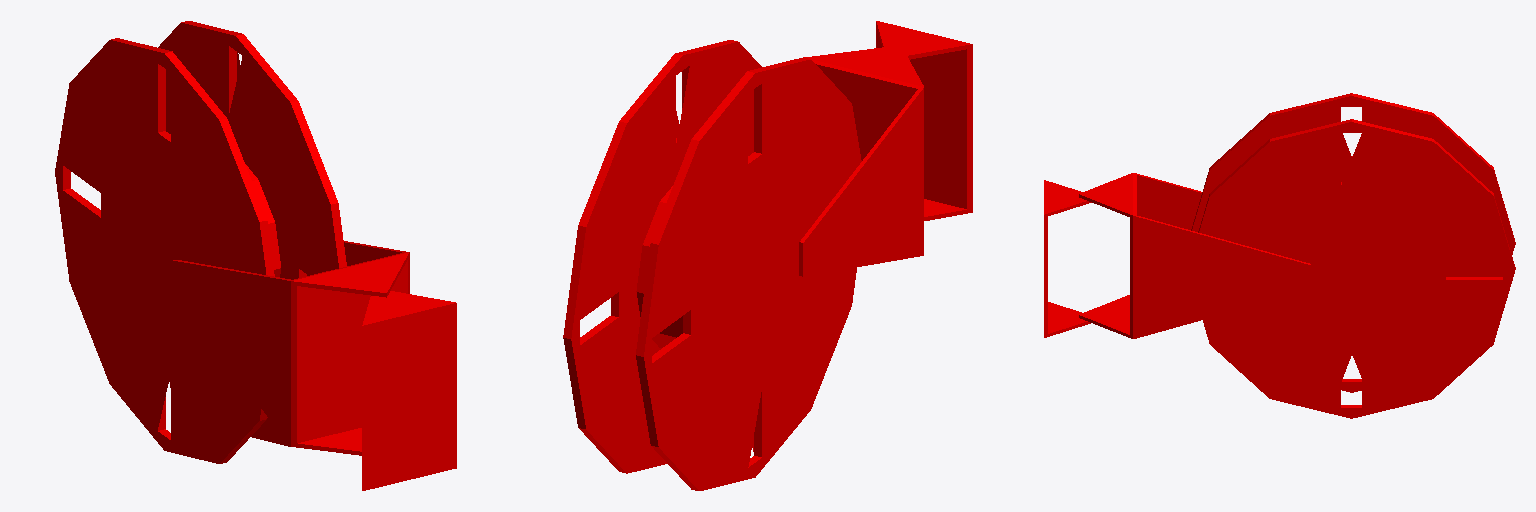
The robot description file, URDF, robot "drcbox-hose-reel-0-robot":
<?xml version="1.0"?>
<robot name="drcbox-hose-reel-0-robot"
       xmlns:xi="http://www.w3.org/2001/XInclude"
       xmlns:gazebo="http://playerstage.sourceforge.net/gazebo/xmlschema/#gz"
       xmlns:model="http://playerstage.sourceforge.net/gazebo/xmlschema/#model"
       xmlns:sensor="http://playerstage.sourceforge.net/gazebo/xmlschema/#sensor"
       xmlns:body="http://playerstage.sourceforge.net/gazebo/xmlschema/#body"
       xmlns:geom="http://playerstage.sourceforge.net/gazebo/xmlschema/#geom"
       xmlns:joint="http://playerstage.sourceforge.net/gazebo/xmlschema/#joint"
       xmlns:interface="http://playerstage.sourceforge.net/gazebo/xmlschema/#interface"
       xmlns:rendering="http://playerstage.sourceforge.net/gazebo/xmlschema/#rendering"
       xmlns:renderable="http://playerstage.sourceforge.net/gazebo/xmlschema/#renderable"
       xmlns:controller="http://playerstage.sourceforge.net/gazebo/xmlschema/#controller"
       xmlns:physics="http://playerstage.sourceforge.net/gazebo/xmlschema/#physics">
  <gazebo>
    <static>false</static>
  </gazebo>
  <link name="ROOT-LINK_link">
    <visual>
      <origin xyz="0 0 0" rpy="0 -0 0"/>
      <geometry>
        <mesh filename="model://drcbox-hose-reel-0/meshes/ROOT-LINK_link_mesh.dae" scale="1 1 1" />
      </geometry>
    </visual>
    <collision>
      <origin xyz="0 0 0" rpy="0 -0 0"/>
      <geometry>
        <mesh filename="model://drcbox-hose-reel-0/meshes/ROOT-LINK_link_mesh.dae" scale="1 1 1" />
      </geometry>
    </collision>
    <inertial>
      <mass value="0.001" />
      <origin xyz="0 0 0" rpy="0 -0 0"/>
      <inertia ixx="1e-03" ixy="0" ixz="0" iyy="1e-03" iyz="0" izz="1e-03"/>
    </inertial>
  </link>
  <gazebo reference="ROOT-LINK_link">
    <mu1>0.9</mu1>
    <mu2>0.9</mu2>
  </gazebo>
  <link name="CONNECT-LINK_link">
    <visual>
      <origin xyz="0 0.05 0.005" rpy="0 -0 0"/>
      <geometry>
        <mesh filename="model://drcbox-hose-reel-0/meshes/CONNECT-LINK_link_mesh.dae" scale="1 1 1" />
      </geometry>
    </visual>
    <collision>
      <origin xyz="0 0.05 0.005" rpy="0 -0 0"/>
      <geometry>
        <mesh filename="model://drcbox-hose-reel-0/meshes/CONNECT-LINK_link_mesh.dae" scale="1 1 1" />
      </geometry>
    </collision>
    <inertial>
      <mass value="0.001" />
      <origin xyz="0 0 0" rpy="0 -0 0"/>
      <inertia ixx="1e-03" ixy="0" ixz="0" iyy="1e-03" iyz="0" izz="1e-03"/>
    </inertial>
  </link>
  <gazebo reference="CONNECT-LINK_link">
    <mu1>0.9</mu1>
    <mu2>0.9</mu2>
  </gazebo>
  <link name="REEL-LINK_link">
    <visual>
      <origin xyz="0 0.4 0" rpy="0 -0 0"/>
      <geometry>
        <mesh filename="model://drcbox-hose-reel-0/meshes/REEL-LINK_link_mesh.dae" scale="1 1 1" />
      </geometry>
    </visual>
    <collision>
      <origin xyz="0 0.4 0" rpy="0 -0 0"/>
      <geometry>
        <mesh filename="model://drcbox-hose-reel-0/meshes/REEL-LINK_link_mesh.dae" scale="1 1 1" />
      </geometry>
    </collision>
    <inertial>
      <mass value="0.001" />
      <origin xyz="0 0 0" rpy="0 -0 0"/>
      <inertia ixx="1e-03" ixy="0" ixz="0" iyy="1e-03" iyz="0" izz="1e-03"/>
    </inertial>
  </link>
  <gazebo reference="REEL-LINK_link">
    <mu1>0.9</mu1>
    <mu2>0.9</mu2>
  </gazebo>
  <joint name="ROOT-JOINT" type="revolute">
    <parent link="ROOT-LINK_link"/>
    <child  link="CONNECT-LINK_link"/>
    <origin xyz="0 0.05 0.005" rpy="0 -0 0 "/>
    <axis   xyz="0 0 1"/>
    <limit lower="-1" upper="1" effort="100" velocity="0.5" />
    <dynamics damping="0.2" friction="0" />
  </joint>
  <transmission type="pr2_mechanism_model/SimpleTransmission" name="ROOT-JOINT_trans" >
    <actuator name="ROOT-JOINT_motor" />
    <joint name="ROOT-JOINT" />
    <mechanicalReduction>1</mechanicalReduction>
  </transmission>
  <gazebo reference="ROOT-JOINT">
    <cfmDamping>0.4</cfmDamping>
  </gazebo>
  <joint name="REEL-JOINT" type="revolute">
    <parent link="CONNECT-LINK_link"/>
    <child  link="REEL-LINK_link"/>
    <origin xyz="0 0.4 0" rpy="0 -0 0 "/>
    <axis   xyz="1 0 0"/>
    <limit lower="-62.8319" upper="62.8319" effort="100" velocity="0.5" />
    <dynamics damping="0.2" friction="0" />
  </joint>
  <transmission type="pr2_mechanism_model/SimpleTransmission" name="REEL-JOINT_trans" >
    <actuator name="REEL-JOINT_motor" />
    <joint name="REEL-JOINT" />
    <mechanicalReduction>1</mechanicalReduction>
  </transmission>
  <gazebo reference="REEL-JOINT">
    <cfmDamping>0.4</cfmDamping>
  </gazebo>
</robot>

--- Facts derived from the render (not from the file) ---
The picture shows the robot from 3 angles, left to right: view 1: azimuth 30°, elevation 25°; view 2: azimuth 150°, elevation 25°; view 3: azimuth 270°, elevation 25°; orthographic projection.
Model drcbox-hose-reel-0-robot with 3 links and 2 joints (2 revolute), rooted at ROOT-LINK_link, posed all joints at 0.
Links seen in each view (by area): view 1: REEL-LINK_link, CONNECT-LINK_link, ROOT-LINK_link; view 2: REEL-LINK_link, CONNECT-LINK_link, ROOT-LINK_link; view 3: REEL-LINK_link, CONNECT-LINK_link, ROOT-LINK_link.
Boxes of the visible links, bbox=[...] form: REEL-LINK_link: bbox=[55, 21, 346, 463]; CONNECT-LINK_link: bbox=[172, 241, 409, 455]; ROOT-LINK_link: bbox=[362, 291, 456, 490]; REEL-LINK_link: bbox=[563, 40, 861, 490]; CONNECT-LINK_link: bbox=[799, 45, 923, 276]; ROOT-LINK_link: bbox=[876, 21, 972, 220]; REEL-LINK_link: bbox=[1191, 93, 1515, 418]; CONNECT-LINK_link: bbox=[1079, 173, 1310, 338]; ROOT-LINK_link: bbox=[1044, 180, 1091, 337].
Bounding box of the posed robot: 0.15 × 0.69 × 0.48 m (x, y, z).
Meshes: 3 distinct files referenced, 3 mesh visuals loaded (3 Collada DAE).